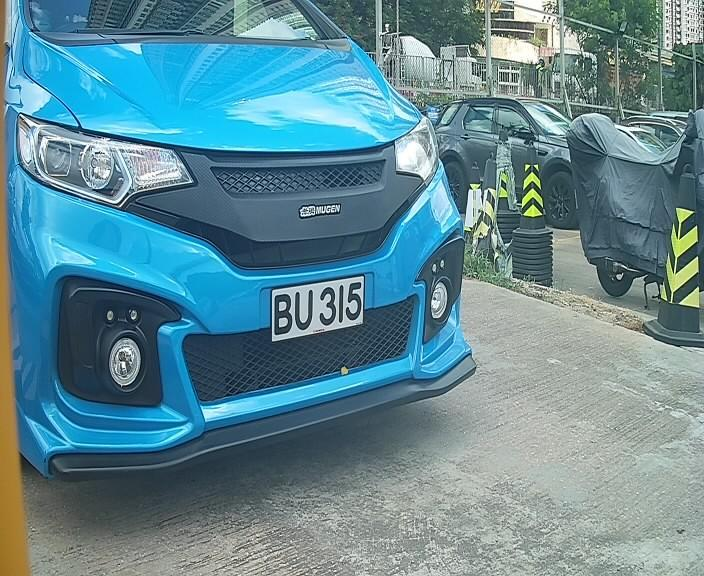License Plate: (258, 265, 371, 348)
